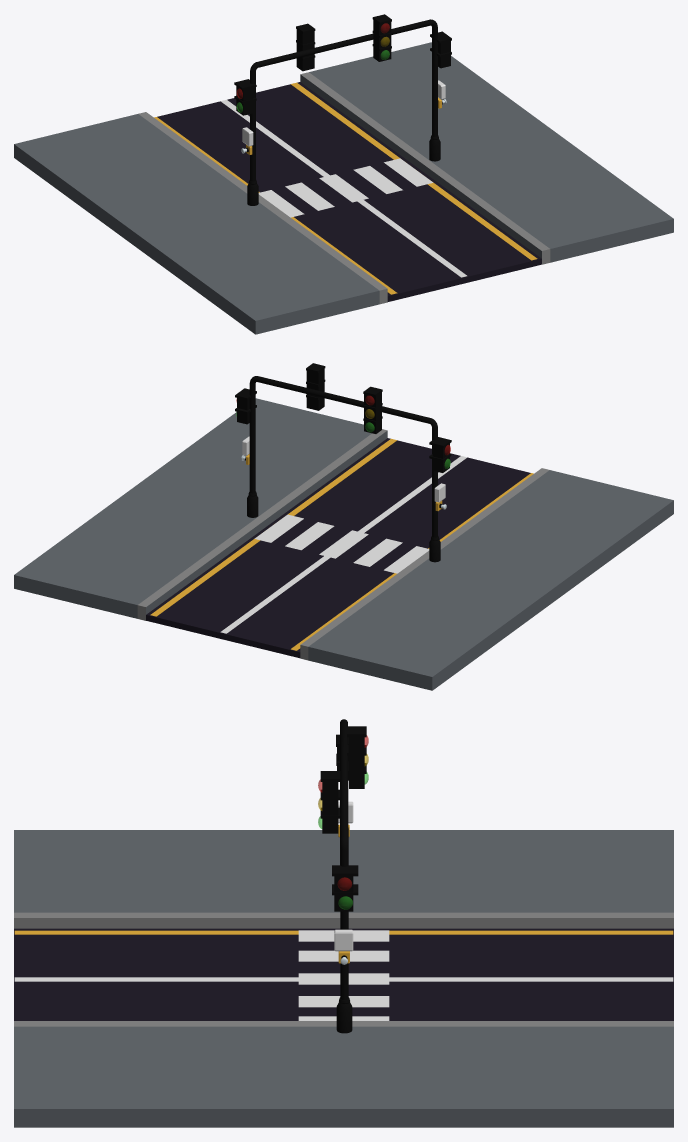
The model's file is Level_1.glb.
3 renders of one model, top to bottom at view 1: azimuth 30°, elevation 25°; view 2: azimuth 150°, elevation 25°; view 3: azimuth 270°, elevation 25°, orthographic. The views are drawn at different scales.
Parts seen in each view (by area): view 1: Level_1, Plane.001, Cylinder.005, Cylinder, Plane.002, Plane.006, Plane.003, Plane.005, Plane.004, Plane; view 2: Level_1, Plane.001, Cylinder.005, Plane.002, Cylinder, Plane.004, Plane.005, Plane.003, Plane.006; view 3: Level_1, Plane.002, Plane.001, Cylinder.005, Plane.004, Plane.005, Plane.003, Plane.
Part boxes in pixels (x1,y1,x2,y2): Level_1: (14,42,673,334); Plane.001: (154,82,537,294); Cylinder.005: (343,19,440,161); Cylinder: (247,41,345,205); Plane.002: (220,99,466,277); Plane.006: (384,158,433,186); Plane.003: (285,182,334,210); Plane.005: (353,166,402,193); Plane.004: (319,174,368,202); Plane: (258,190,304,217); Level_1: (14,398,673,690); Plane.001: (150,438,533,650); Cylinder.005: (247,376,343,517); Plane.002: (220,456,466,633); Cylinder: (342,397,440,562); Plane.004: (319,530,368,558); Plane.005: (285,522,334,550); Plane.003: (353,538,402,566); Plane.006: (254,514,303,542); Level_1: (14,830,673,1127); Plane.002: (14,977,673,981); Plane.001: (14,930,673,934); Cylinder.005: (336,777,352,1033); Plane.004: (298,973,389,984); Plane.005: (298,996,389,1007); Plane.003: (298,950,389,961); Plane: (298,930,389,941).
Bounding box in the file's own units: 8.03 × 3.16 × 8.03.
